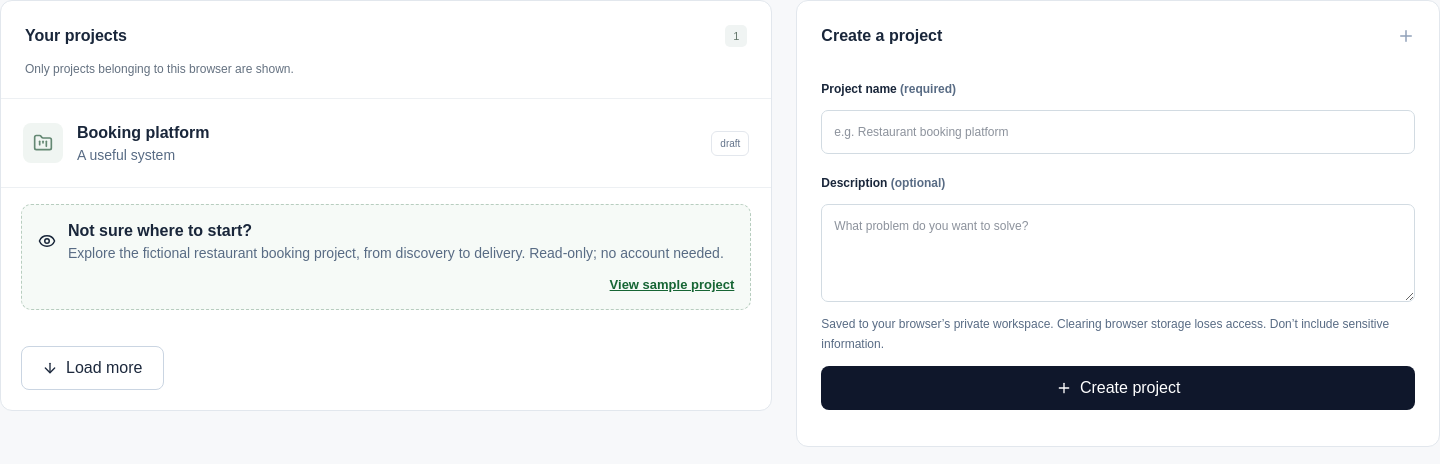
Scenario: projects › loads existing projects and another page
Expected: the heading "Booking platform" is shown, x1=77 y1=121 x2=209 y2=145
Click the button "Load more". click: (92, 368)
box: x1=21 y1=346 x2=164 y2=390
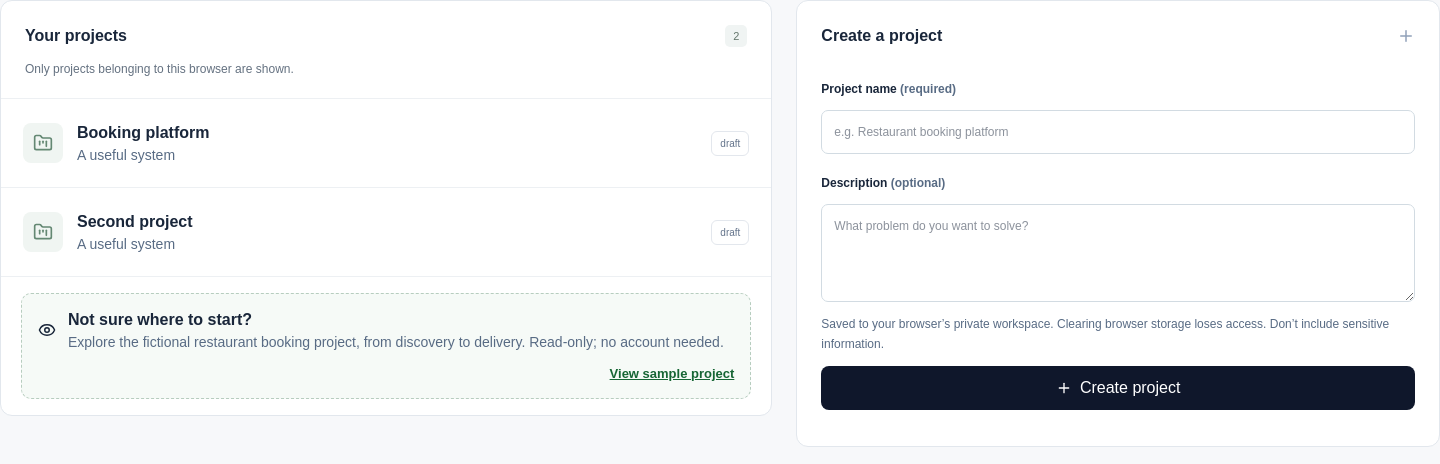
Now the heading "Second project" is shown, box x1=77 y1=210 x2=193 y2=234
Now the button "Load more" is gone
